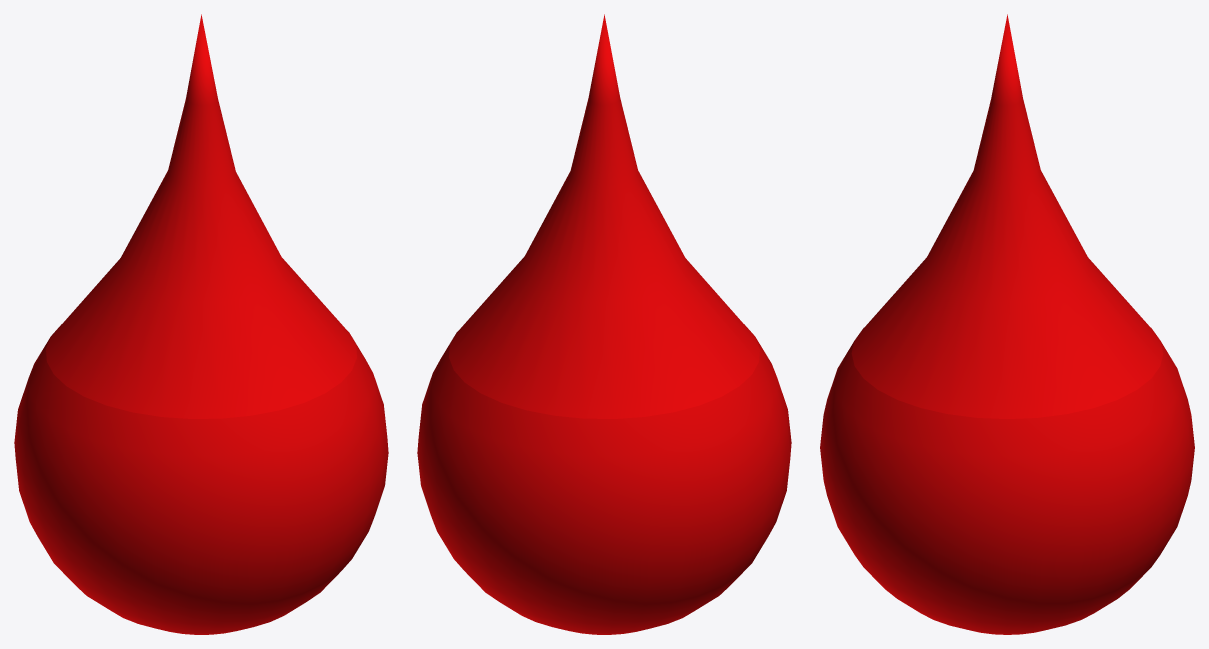
File: blood.fbx
3 views of the same model, side by side, from view 1: azimuth 30°, elevation 25°; view 2: azimuth 150°, elevation 25°; view 3: azimuth 270°, elevation 25° (orthographic).
Visible parts, largest first — view 1: Sphere, Cone; view 2: Sphere, Cone; view 3: Sphere, Cone.
Part boxes in pixels (x1,y1,x2,y2): Sphere: [14, 324, 388, 634]; Cone: [46, 14, 356, 418]; Sphere: [417, 324, 791, 634]; Cone: [449, 14, 759, 418]; Sphere: [820, 328, 1194, 634]; Cone: [851, 14, 1163, 418].
Bounding box in the file's own units: 0.0725 × 0.1287 × 0.0725.
